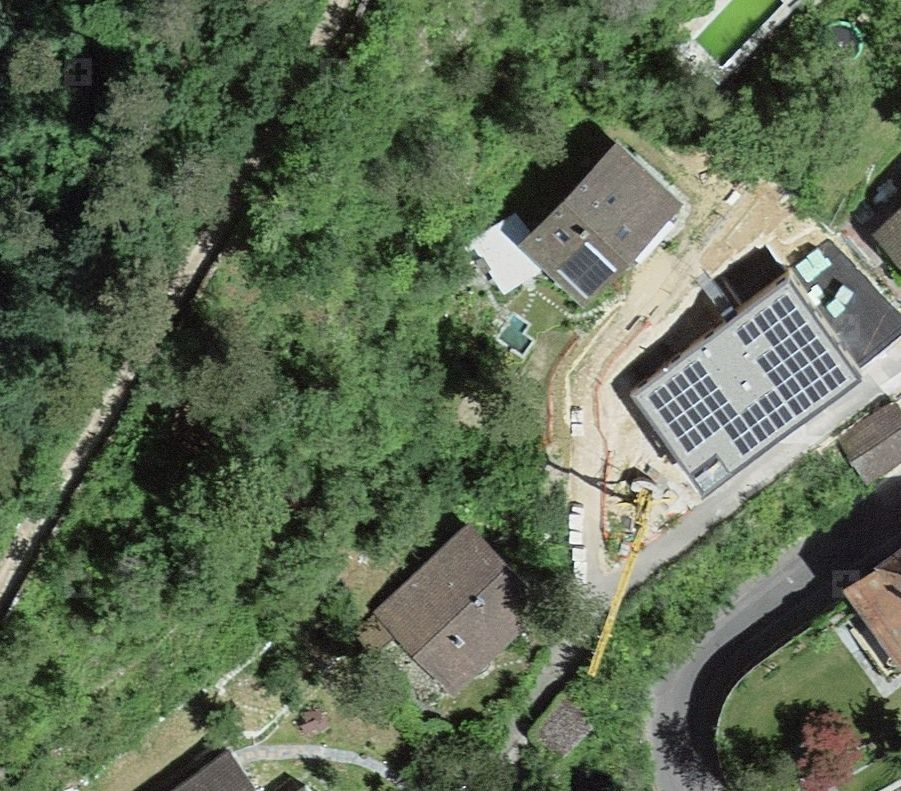solar: (647, 294, 849, 458), (556, 242, 615, 298)
